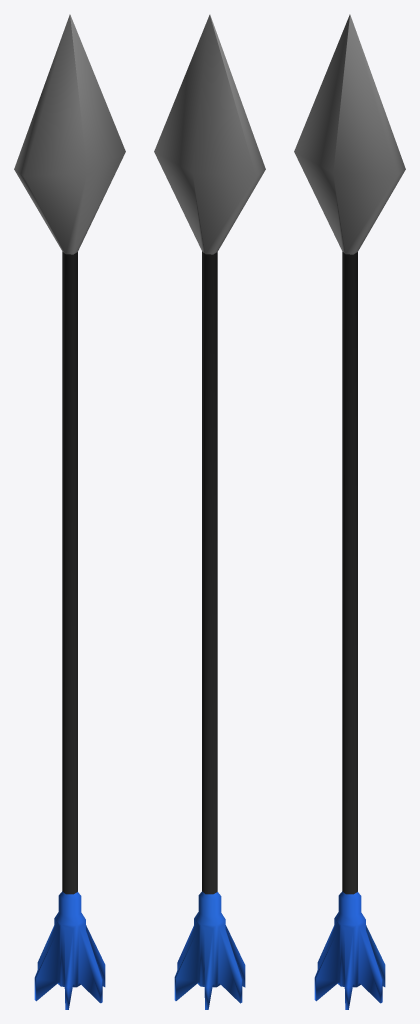
Rendered from trap_arrow_2.glb.
3 views of the same model, side by side, from view 1: azimuth 30°, elevation 25°; view 2: azimuth 150°, elevation 25°; view 3: azimuth 330°, elevation 25° (orthographic).
Parts seen in each view (by area): view 1: Cube.017_visual; view 2: Cube.017_visual; view 3: Cube.017_visual.
Part boxes in pixels (x1,y1,x2,y2): Cube.017_visual: (14,14,125,1009); Cube.017_visual: (154,14,265,1009); Cube.017_visual: (294,14,405,1009).
Size of what is drawn, in the model's own units: 0.1413 by 1.3 by 0.0847.
Materials: 1 (1 with a texture image).
